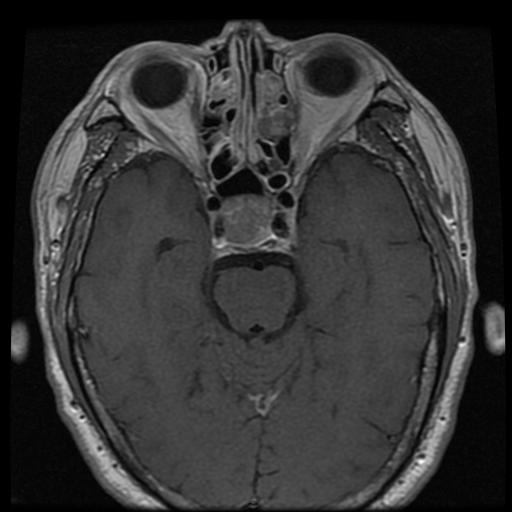Pituirity_tumour: (220, 194, 272, 240)
